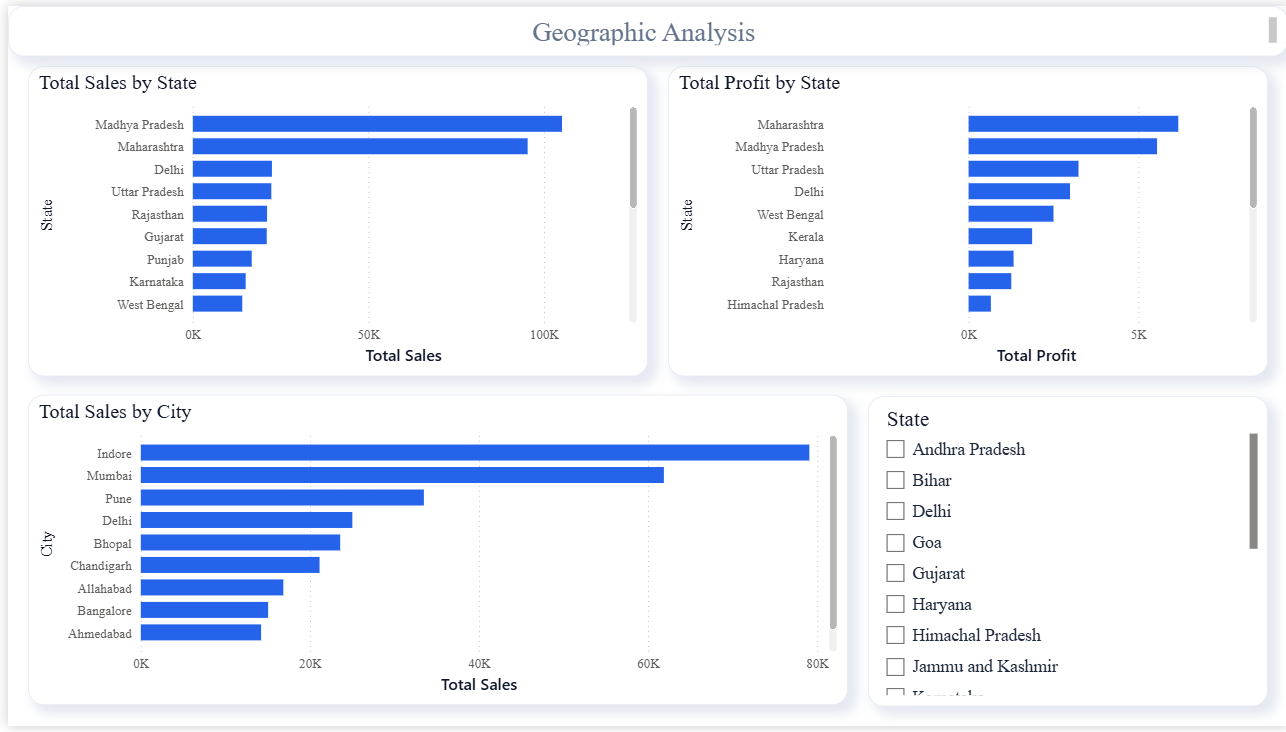

The page's visual inventory and layout, read from the dashboard file:
{"tool":"powerbi","page":{"name":"Geographic Analysis","canvas":[1280,720],"ordinal":4},"visuals":[{"type":"clusteredBarChart","fields":{"Category":["Orders.State"],"Y":["Order_Details.Total Sales"]},"box":[20,60,620,310],"z":0},{"type":"clusteredBarChart","fields":{"Category":["Orders.State"],"Y":["Order_Details.Total Profit"]},"box":[660,60,600,310],"z":1000},{"type":"slicer","fields":{"Values":["Orders.State"]},"box":[860,390,400,310],"z":2000},{"type":"clusteredBarChart","fields":{"Y":["Order_Details.Total Sales"],"Category":["Orders.City"]},"box":[20,389,820,310],"z":3000},{"type":"textbox","box":[0,0,1280,50],"z":4000}]}

Visuals, with their boxes in screenshot pixels (x1, y1, x2, y2), scaled from the page's 1280x720 canvas onto the 1286x732 screenshot:
clusteredBarChart - Orders.State x Order_Details.Total Sales: locate(20, 61, 643, 376)
clusteredBarChart - Orders.State x Order_Details.Total Profit: locate(663, 61, 1266, 376)
slicer - Orders.State: locate(864, 396, 1266, 712)
clusteredBarChart - Order_Details.Total Sales x Orders.City: locate(20, 395, 844, 711)
textbox: locate(0, 0, 1285, 51)
